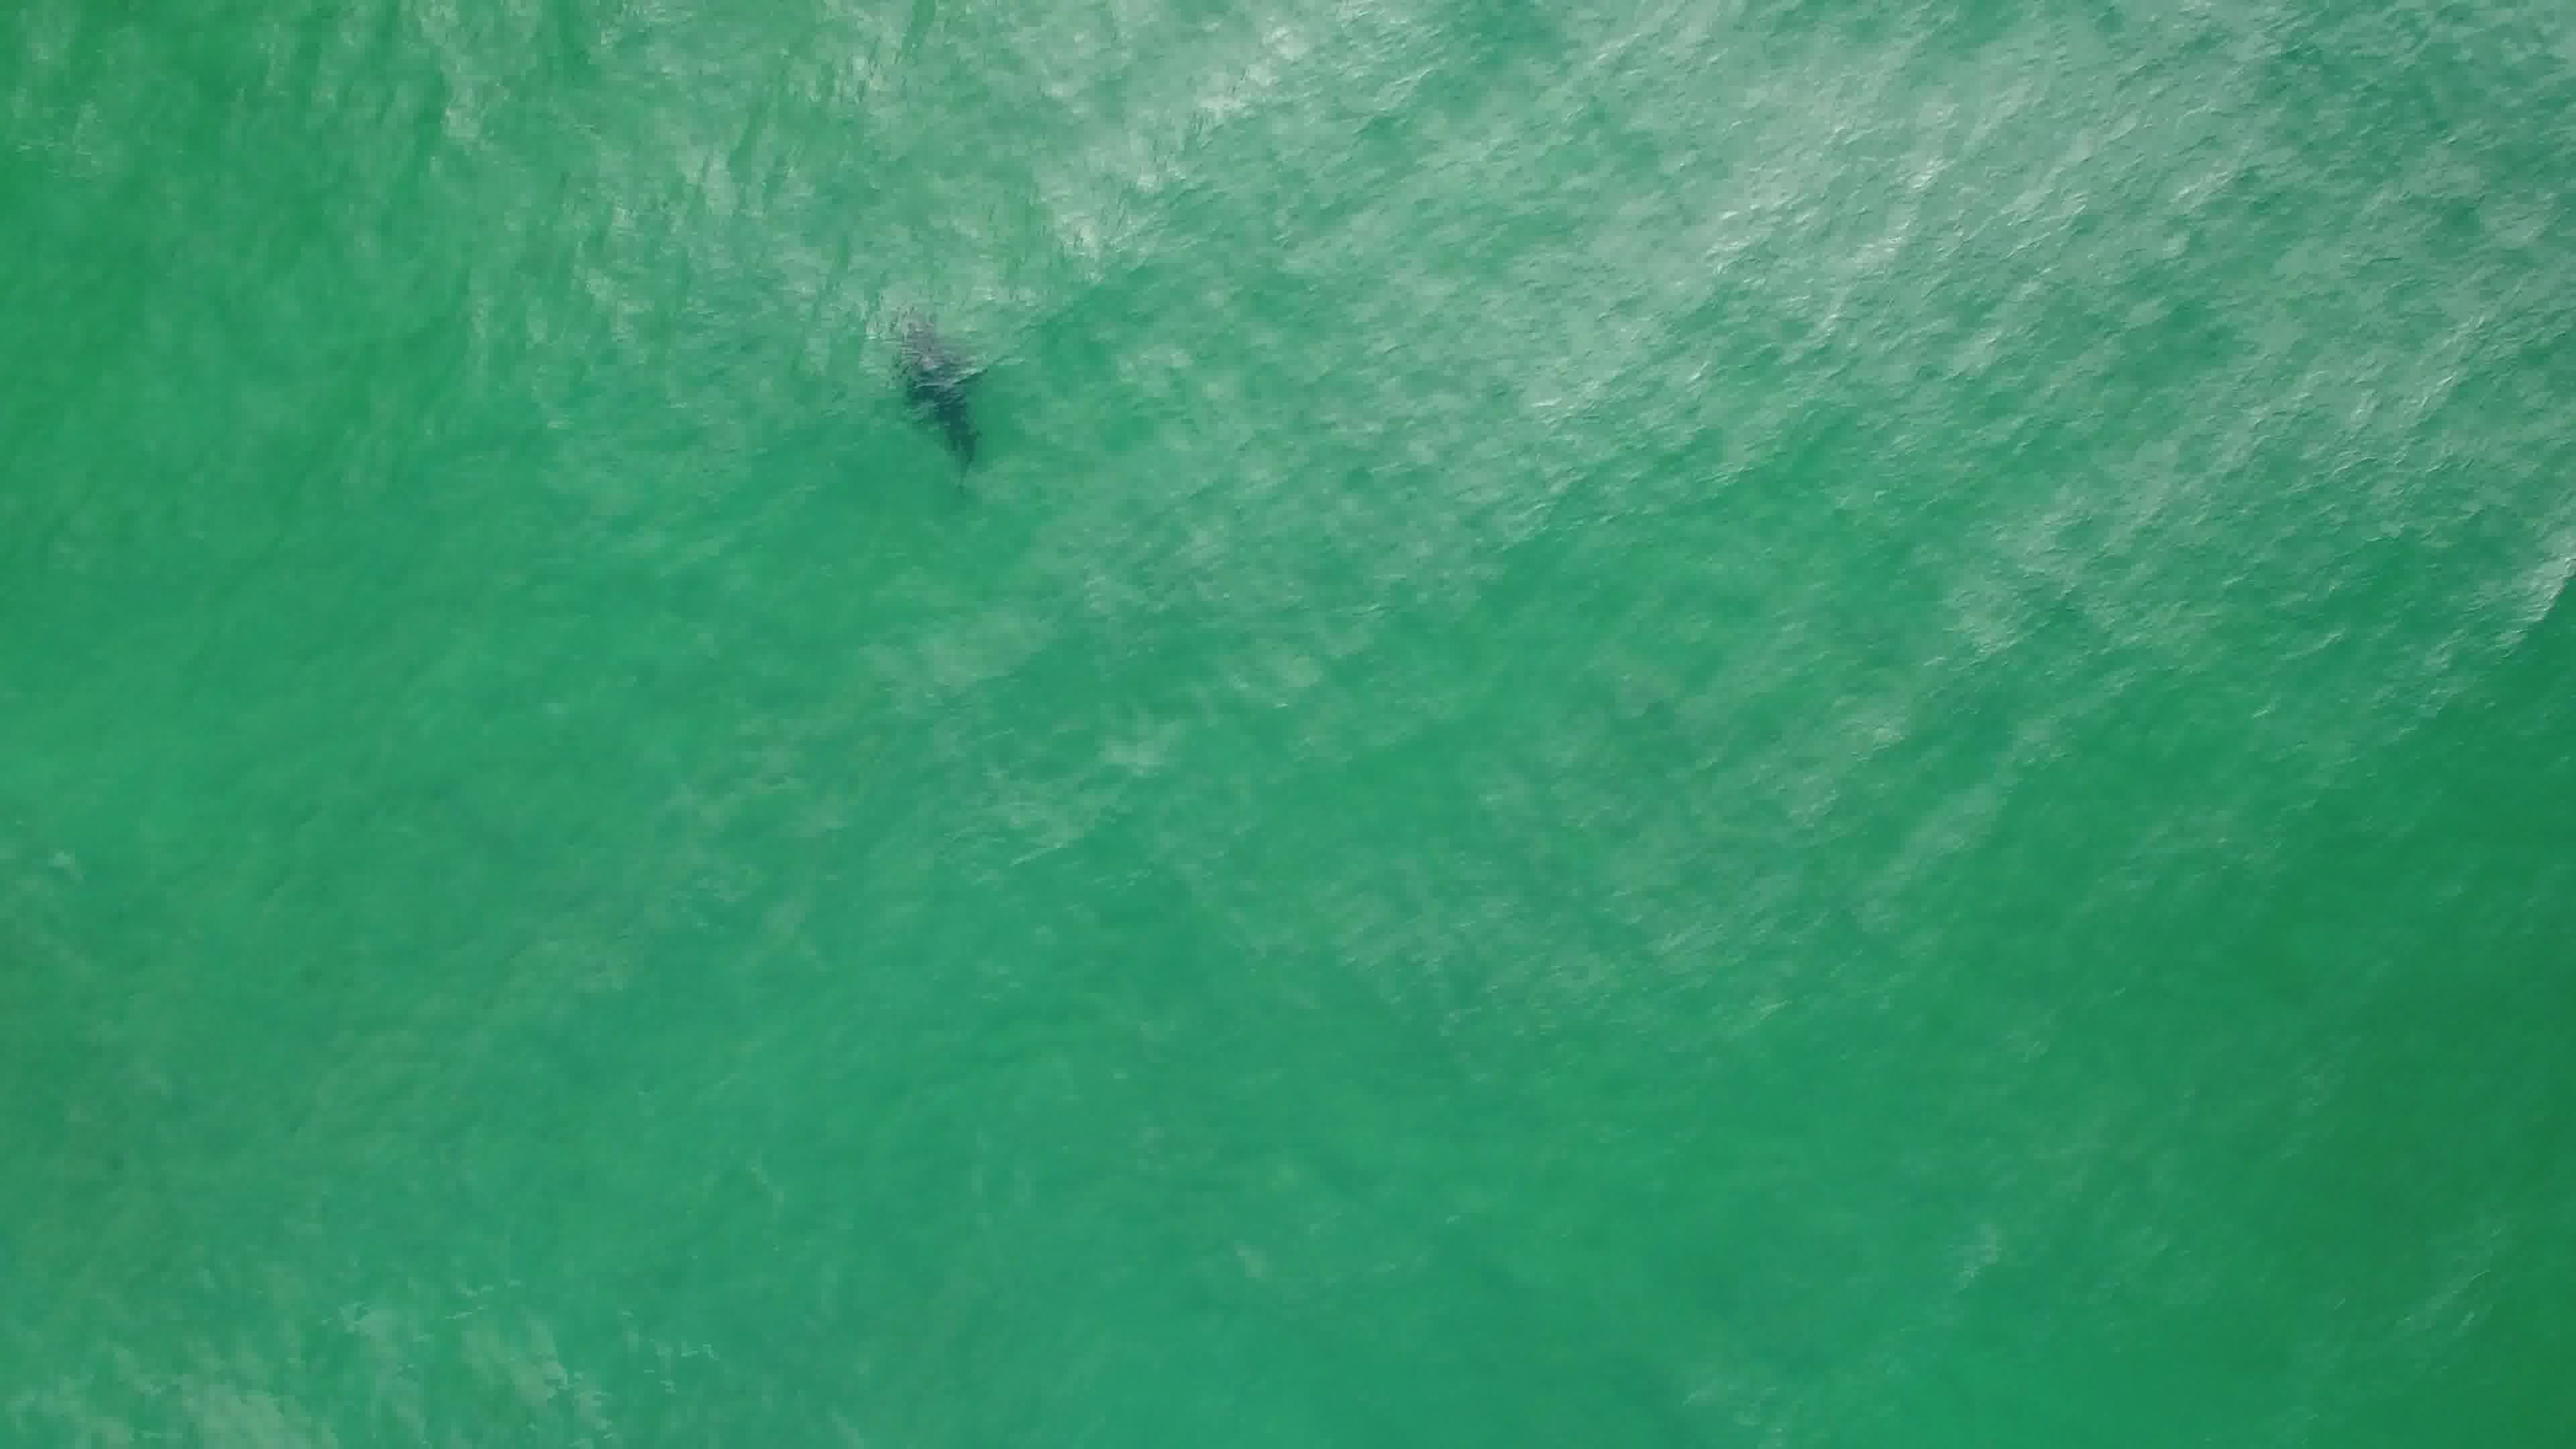shark: (870, 310, 985, 487)
